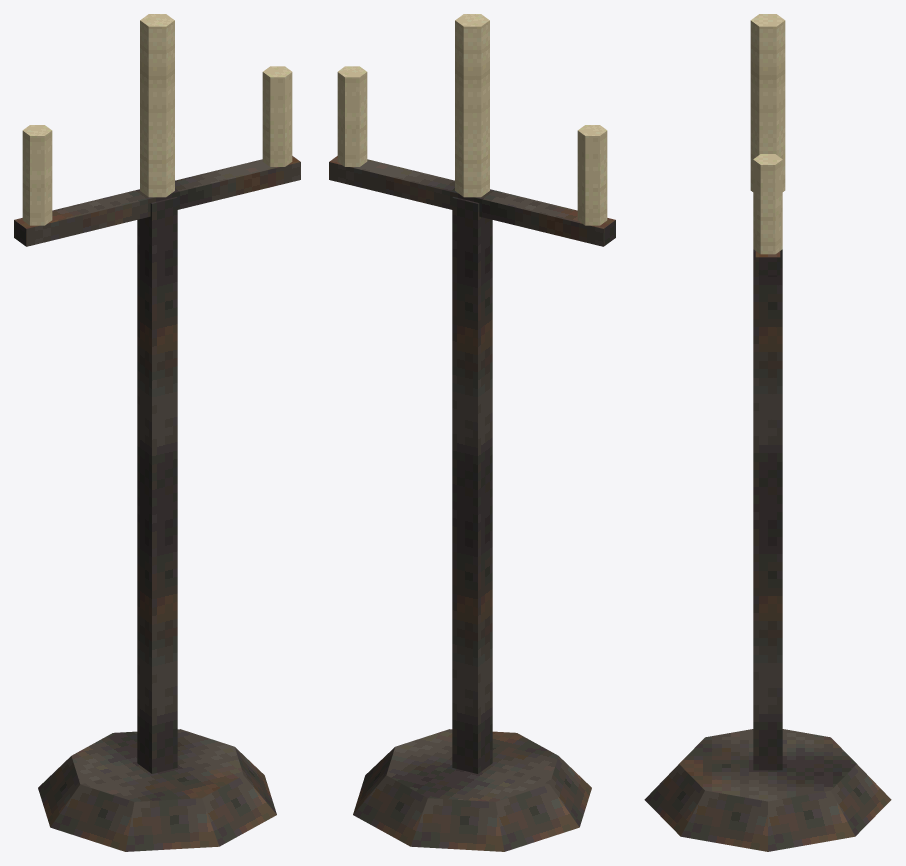
File: candelabro.obj
3 views of the same model, side by side, from view 1: azimuth 30°, elevation 25°; view 2: azimuth 150°, elevation 25°; view 3: azimuth 270°, elevation 25° (orthographic).
Parts seen in each view (by area): view 1: candelabro; view 2: candelabro; view 3: candelabro.
Part boxes in pixels (x1,y1,x2,y2): candelabro: [14, 14, 300, 851]; candelabro: [329, 14, 615, 851]; candelabro: [644, 14, 891, 851].
Bounding box in the file's own units: 0.64 × 1.74 × 0.5.
2 materials, 2 textured.
